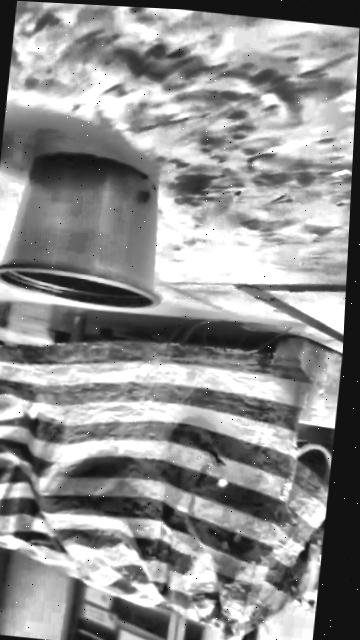pot: (0, 146, 175, 313)
